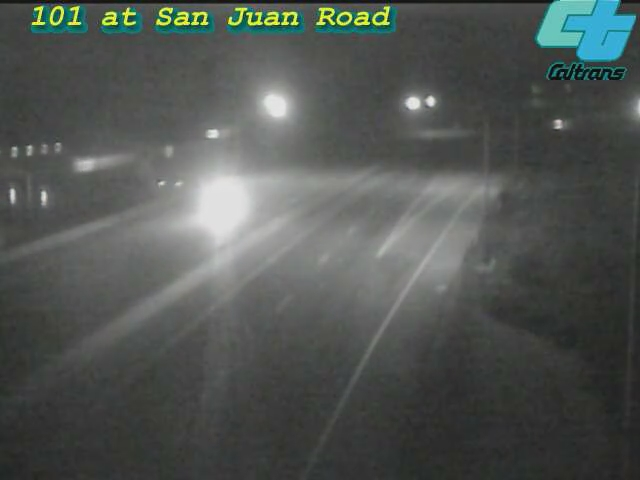vehicle: (186, 165, 266, 245)
